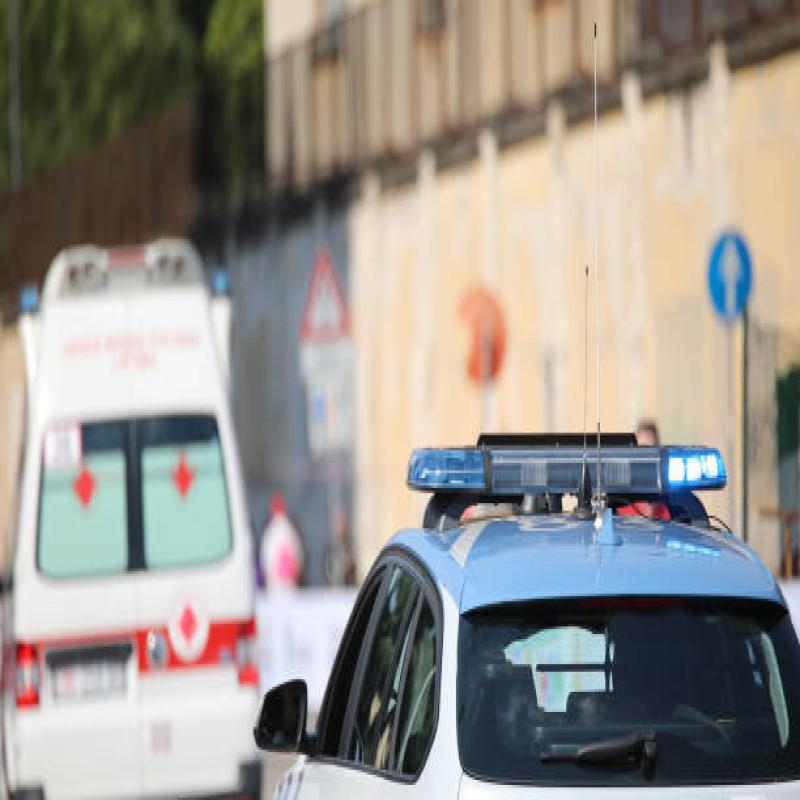AmbulanceSiren: (389, 426, 731, 538)
ambulance: (0, 266, 274, 800)
